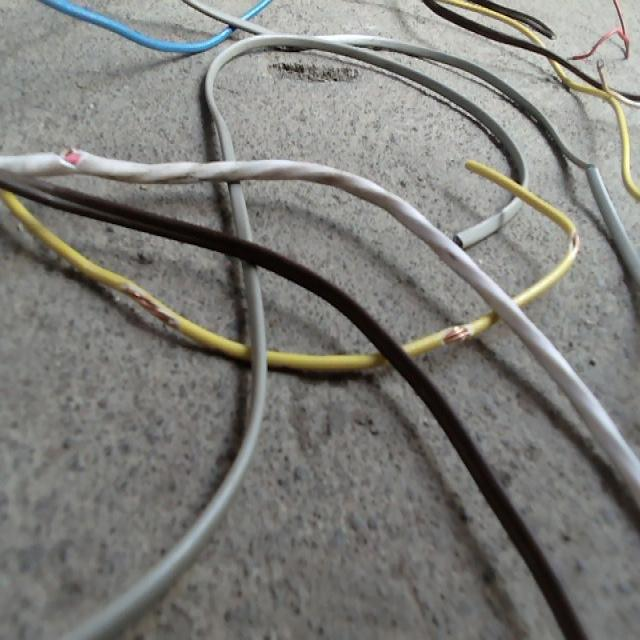-: (120, 280, 178, 328), (51, 147, 87, 168), (442, 320, 470, 345), (567, 227, 580, 252)
